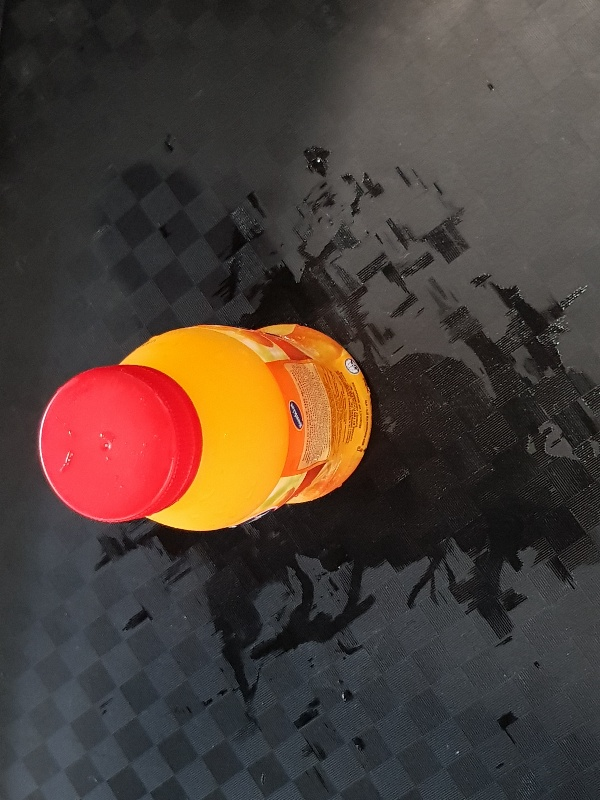Sunkist Orange Juice Drink: (35, 320, 374, 534)
